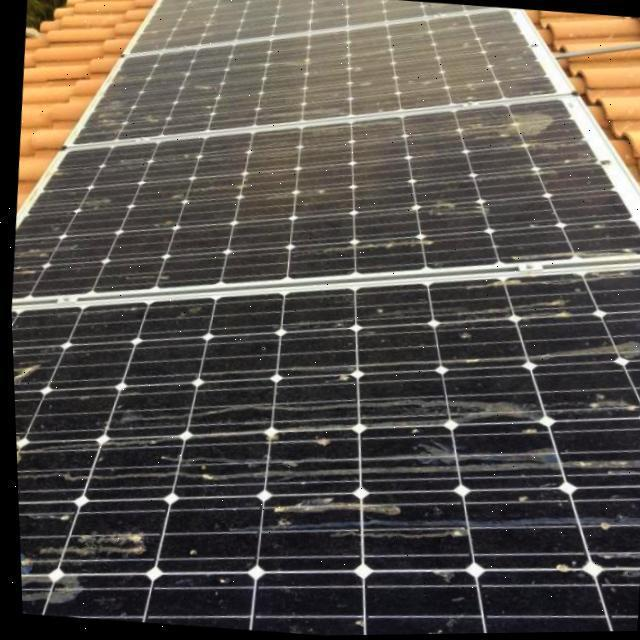Surface Contaminant: (9, 264, 640, 636), (444, 103, 558, 149)
